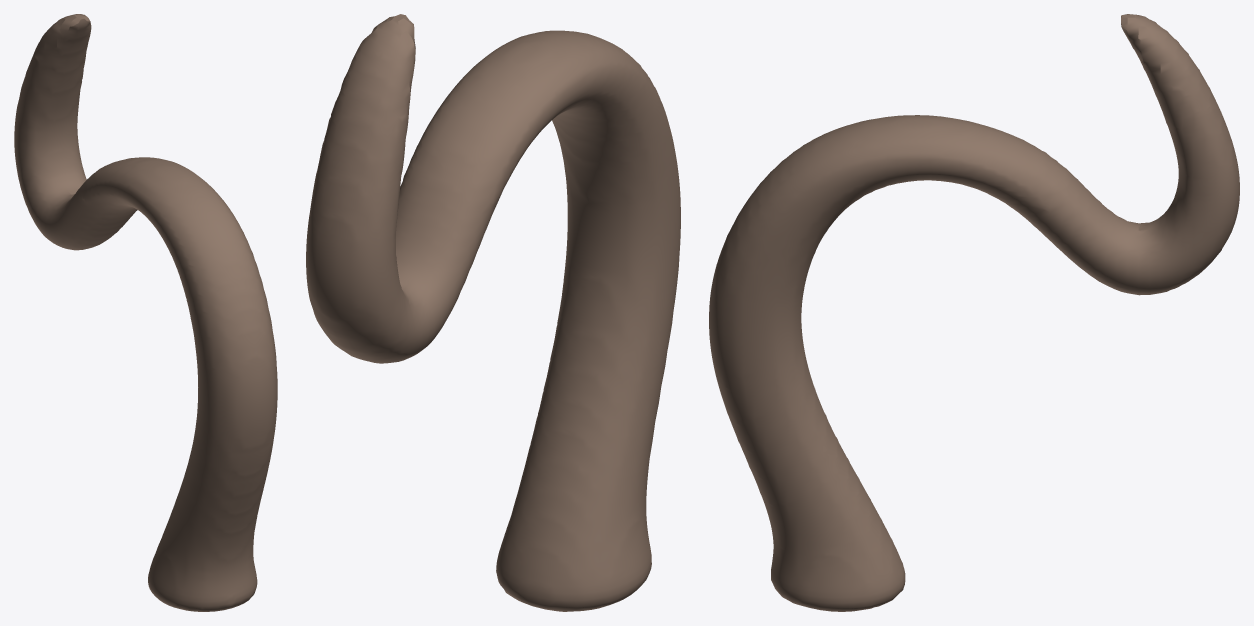
File: twopartmush.fbx
3 views of the same model, side by side, from view 1: azimuth 30°, elevation 25°; view 2: azimuth 150°, elevation 25°; view 3: azimuth 270°, elevation 25° (orthographic). The views are drawn at different scales.
Visible parts, largest first — view 1: Cube.002; view 2: Cube.002; view 3: Cube.002.
Part boxes in pixels (x1=…): Cube.002: x1=14, y1=14, x2=277, y2=611; Cube.002: x1=306, y1=14, x2=680, y2=611; Cube.002: x1=709, y1=14, x2=1239, y2=611.
Size of the model in its own units: 132 by 680 by 564.
